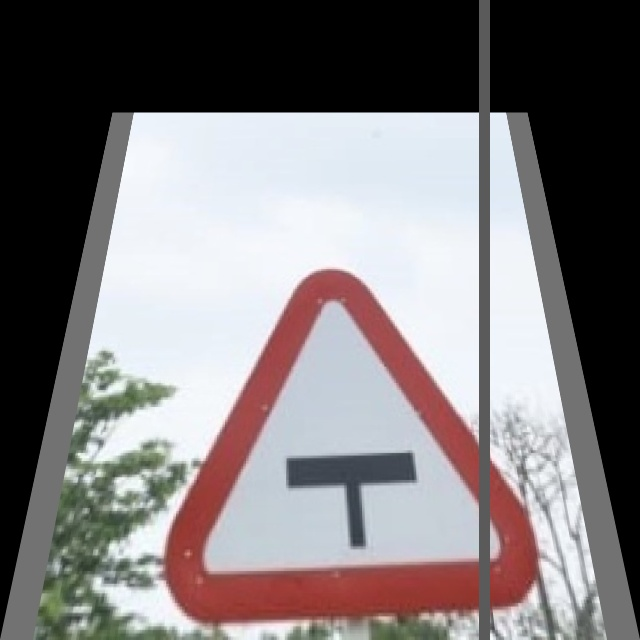T_Intersection: (167, 270, 544, 604)
